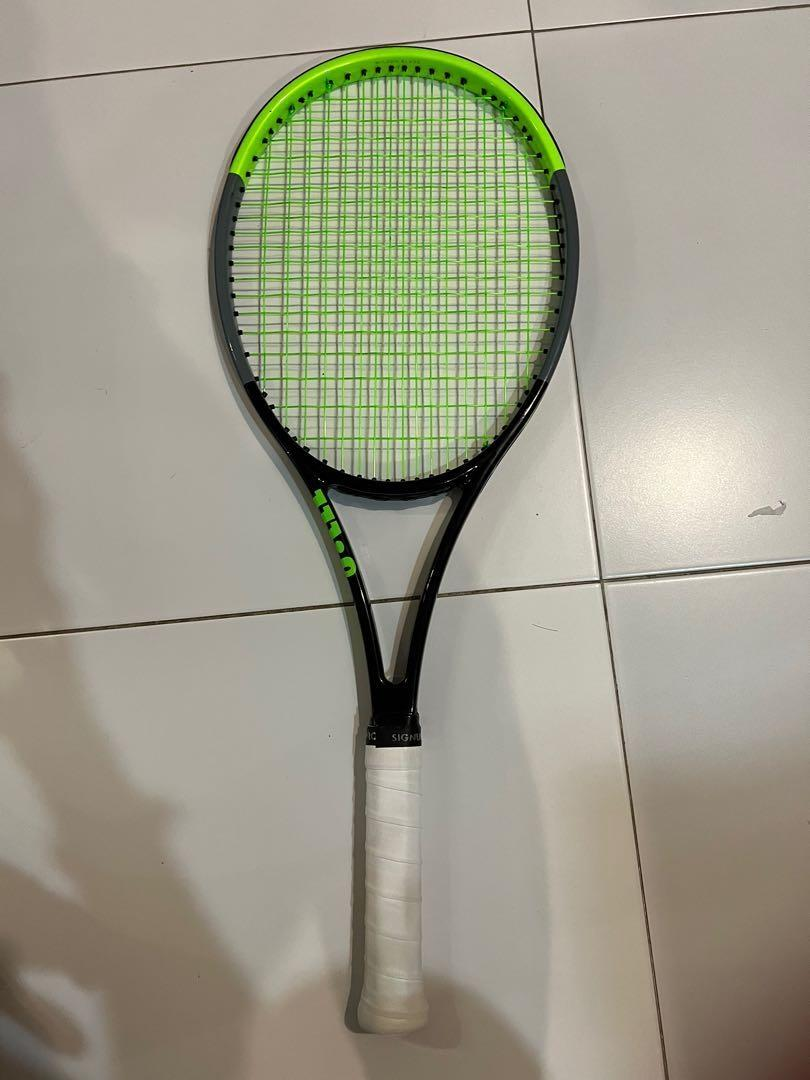Tennis-Racket: (211, 47, 580, 1032)
